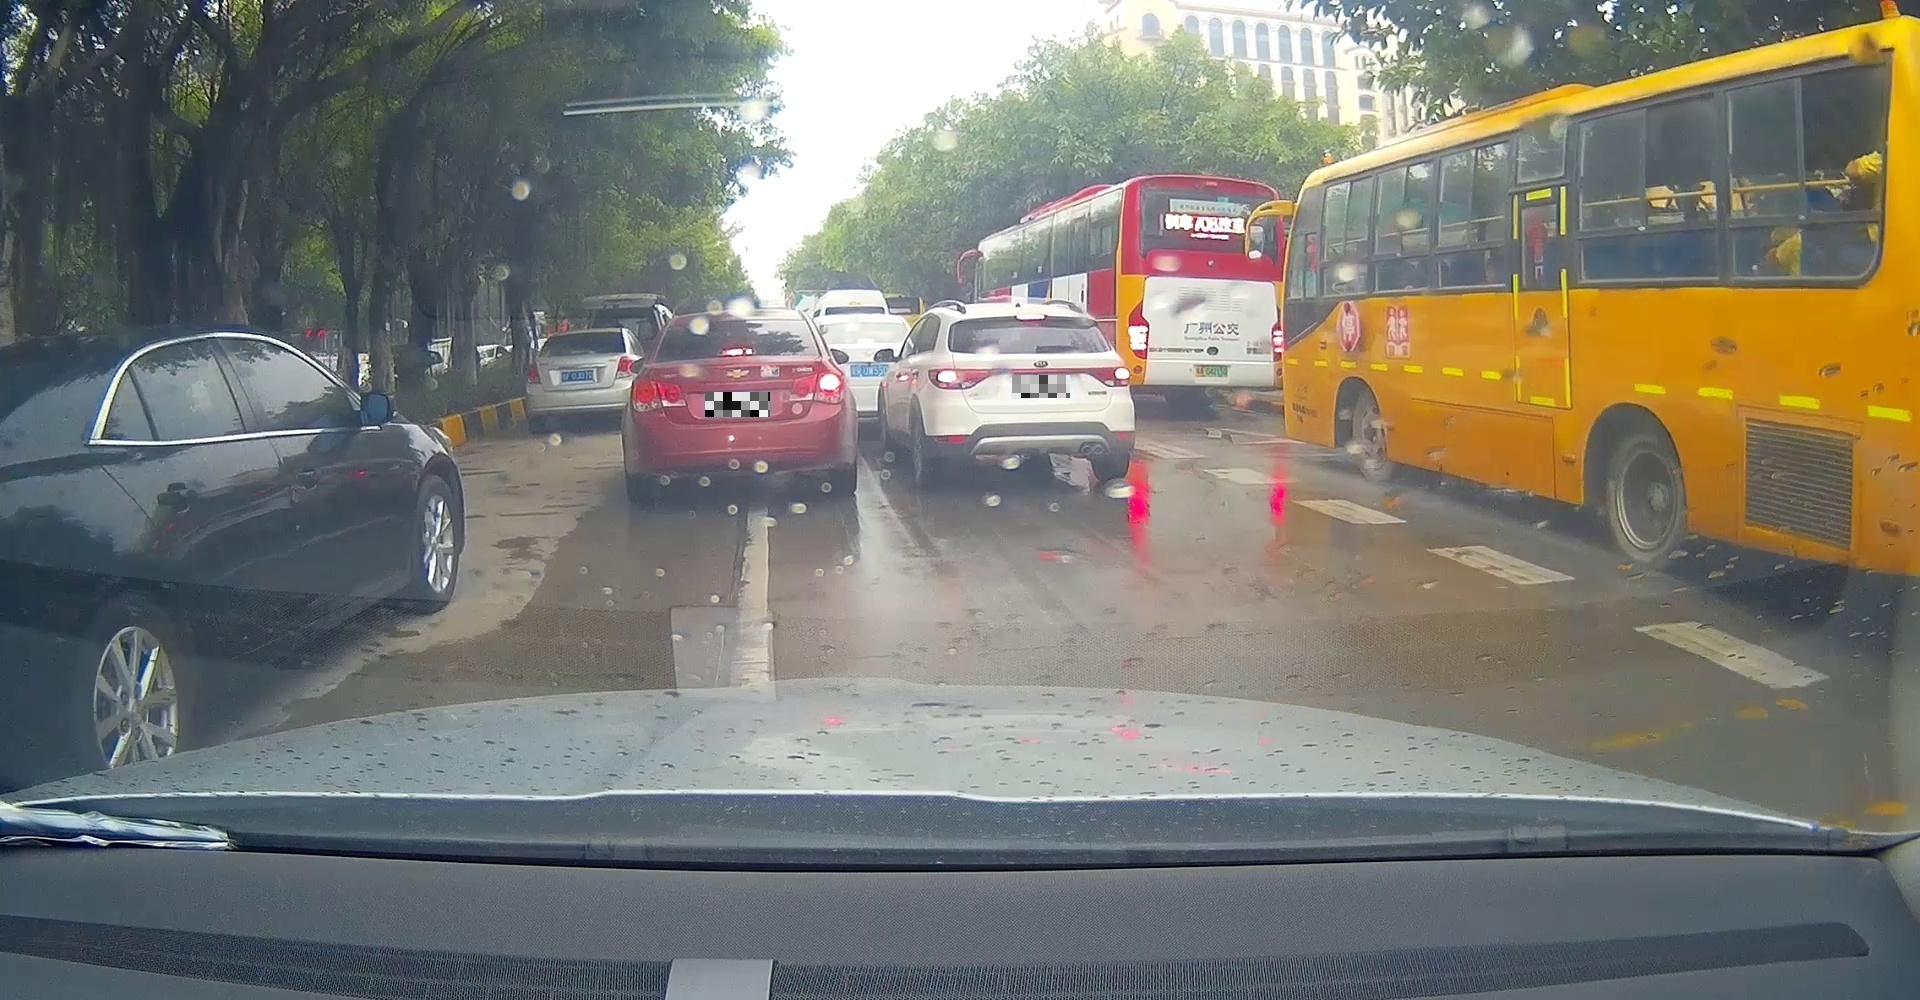L_light: (630, 377, 686, 412), (927, 367, 994, 390)
R_light: (789, 369, 844, 405), (1084, 365, 1130, 387)
T_light: (719, 346, 754, 358), (1015, 313, 1046, 320)
day-brake: (924, 302, 1135, 484)
day-right: (621, 307, 858, 505)
plate_1: (705, 392, 770, 418)
plate_2: (1012, 376, 1070, 398)
